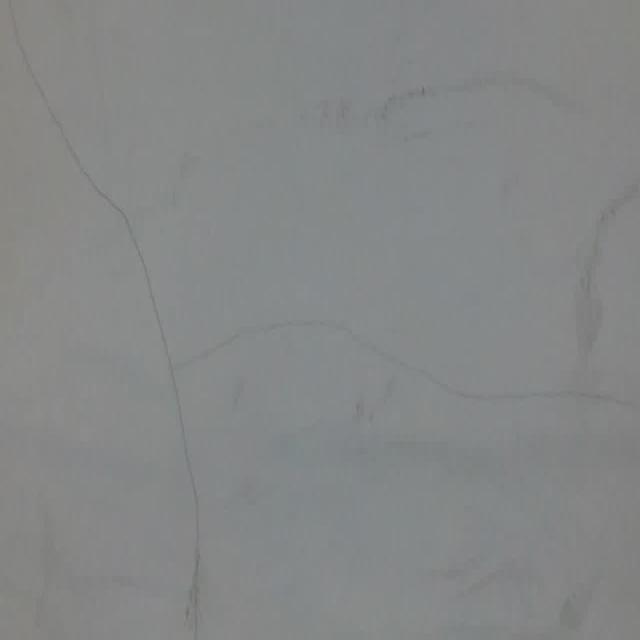Crack: (12, 0, 221, 623), (114, 298, 640, 415)
